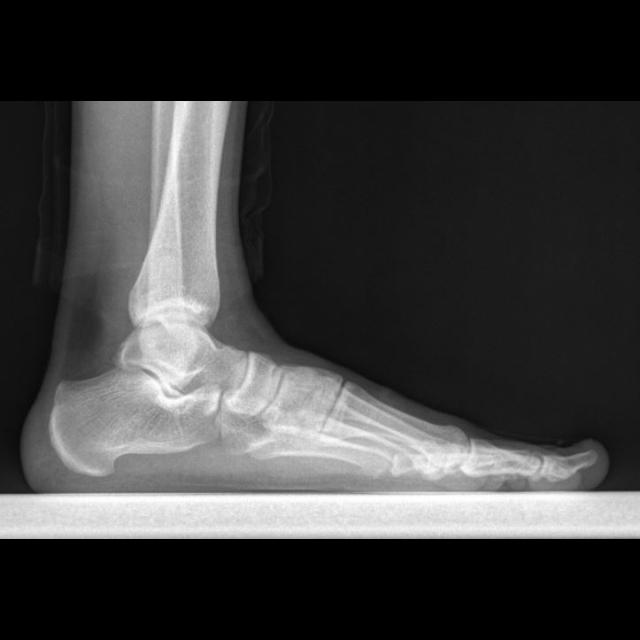a: (50, 367, 222, 477)
b: (221, 352, 282, 417)
c: (319, 378, 472, 481)
